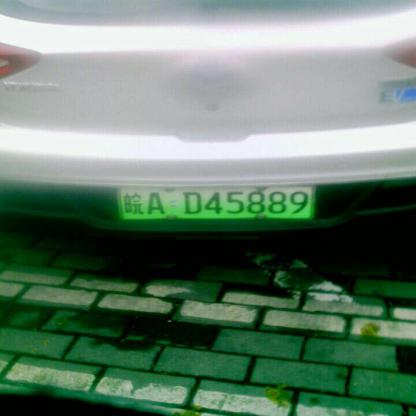lp: (118, 184, 314, 219)
